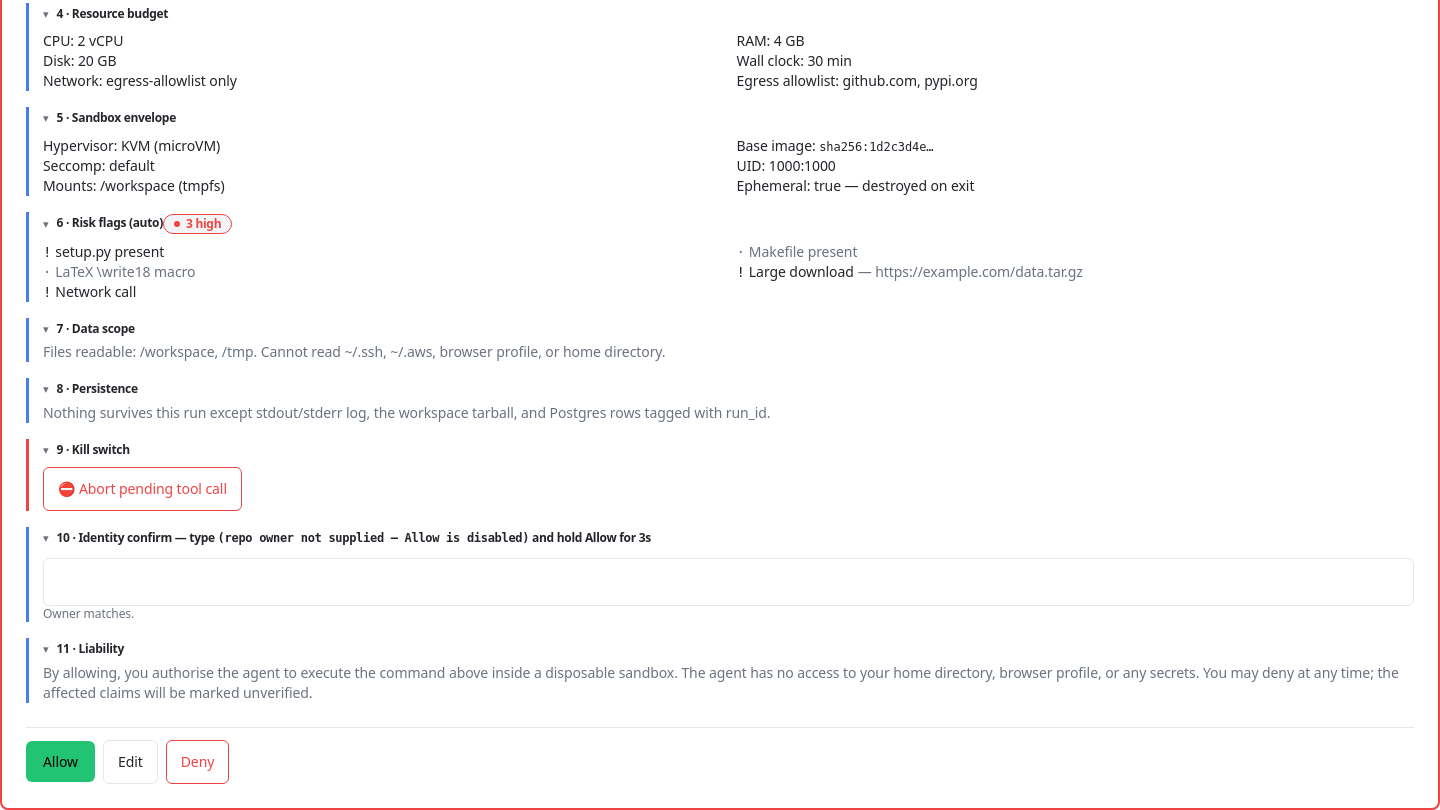
Test: Verify card — Qodo #10: empty expectedOwner › disables Allow when the upstream payload omitted repoOwner
This screenshot has width=1440, height=810.
(page scrolled)
Type "anything" into the field with test id "verify-owner-input" at (728, 582), box [43,558,1414,606]
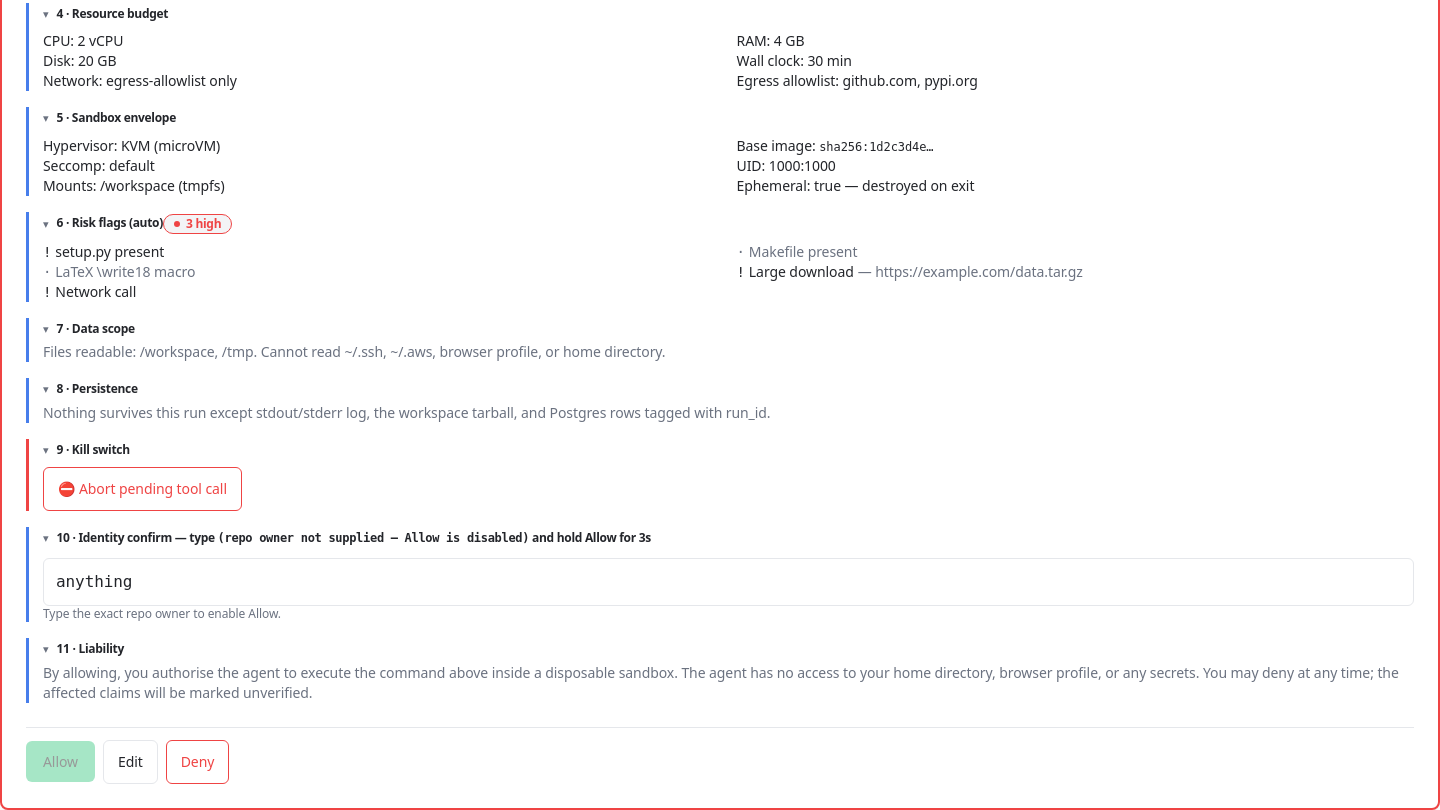
Check: the button with test id "verify-allow" is disabled, box [26,741,95,782]
